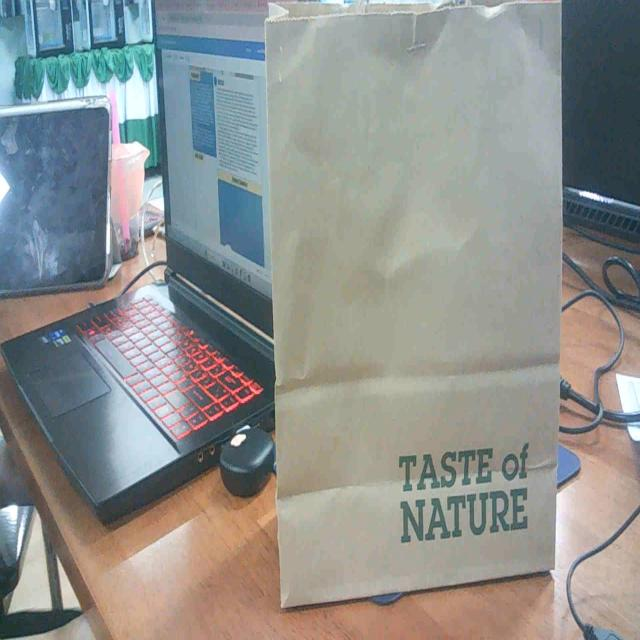bag: (260, 5, 576, 599)
